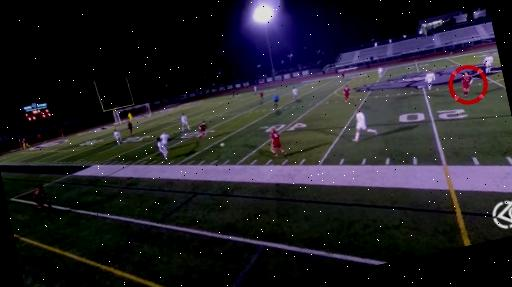highlight_overlay: (440, 60, 494, 110)
